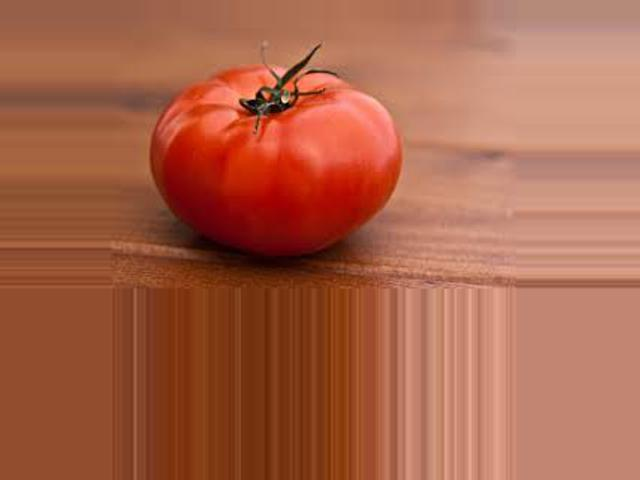tomato: (151, 65, 404, 256)
